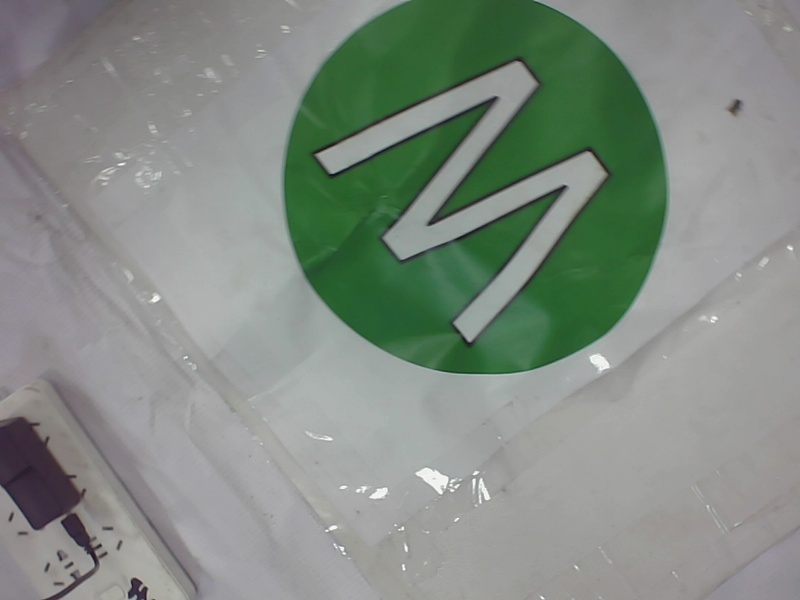areaB: (260, 1, 678, 382)
